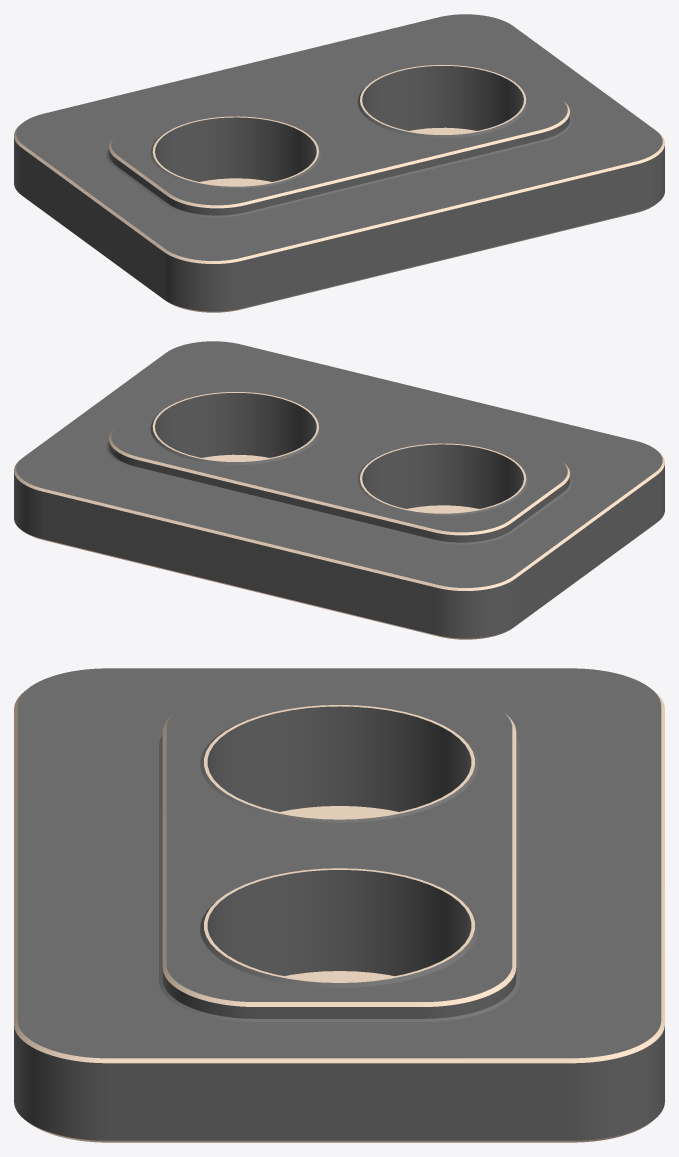
The model's file is TwoButtonCase.fbx.
3 views of the same model, one above another, from view 1: azimuth 30°, elevation 25°; view 2: azimuth 150°, elevation 25°; view 3: azimuth 270°, elevation 25° (orthographic). The views are drawn at different scales.
Visible parts, largest first — view 1: Model; view 2: Model; view 3: Model.
Boxes of the visible parts, x1,y1,x2,y2 form: Model: (14, 14, 664, 312); Model: (14, 341, 664, 639); Model: (14, 668, 664, 1142).
Bounding box in the file's own units: 500 × 62 × 350.
